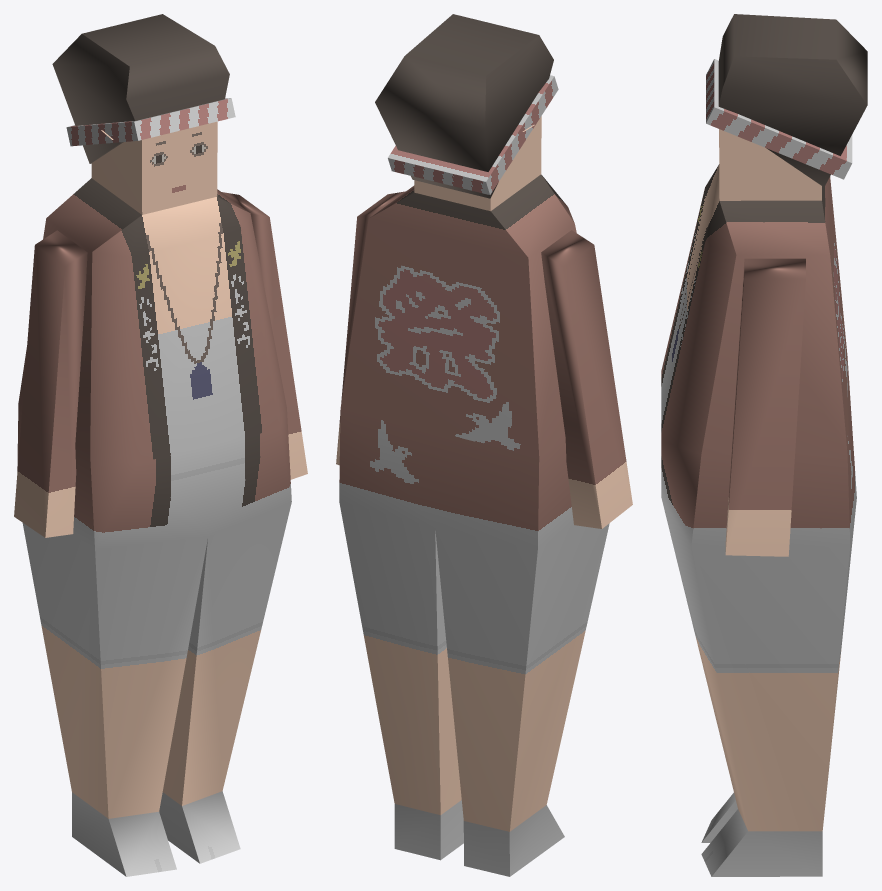
The model's file is 0247_Matsuri_Lover.glb.
The picture shows the model from 3 angles, left to right: view 1: azimuth 30°, elevation 25°; view 2: azimuth 150°, elevation 25°; view 3: azimuth 270°, elevation 25°; orthographic projection.
Parts seen in each view (by area): view 1: part_0; view 2: part_0; view 3: part_0.
Boxes of the visible parts, bbox=[...] form: part_0: bbox=[14, 14, 307, 876]; part_0: bbox=[336, 14, 632, 876]; part_0: bbox=[661, 14, 867, 876].
Bounding box in the file's own units: 0.5188 × 1.5 × 0.3451.
1 material, 1 textured.
